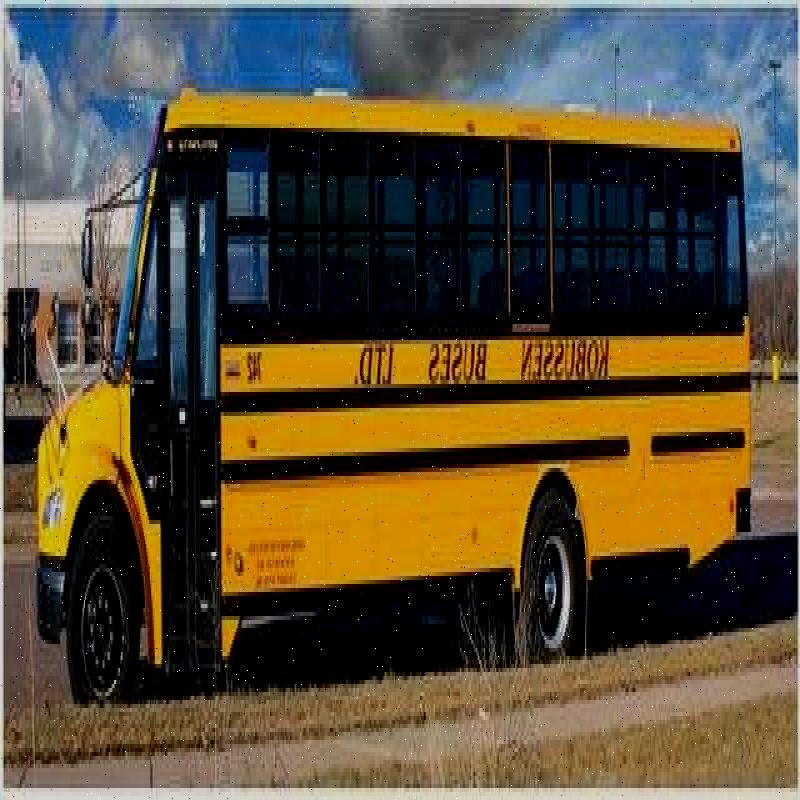bus: (48, 70, 752, 702)
